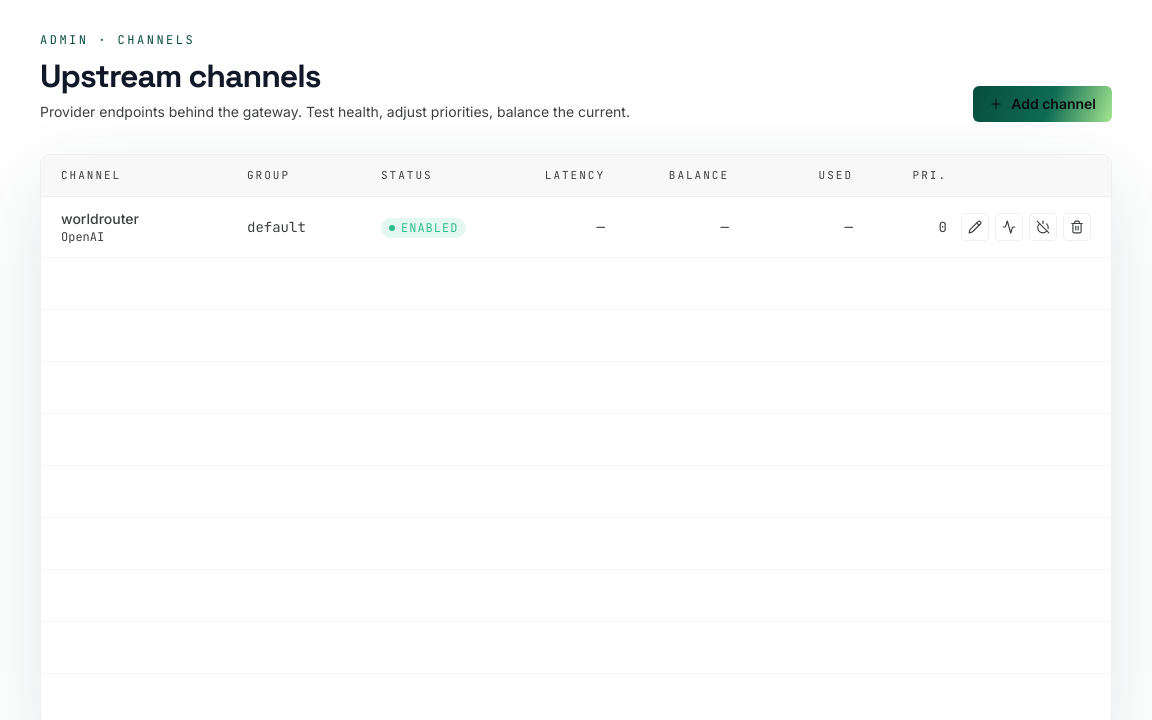
Test: /console/channels mutation errors › surfaces the API error when deleting a channel fails after confirm
Expected: the text "worldrouter" is shown, [61,210,139,226]
Click the button named "Delete": (1077, 226) [1063,212,1091,240]
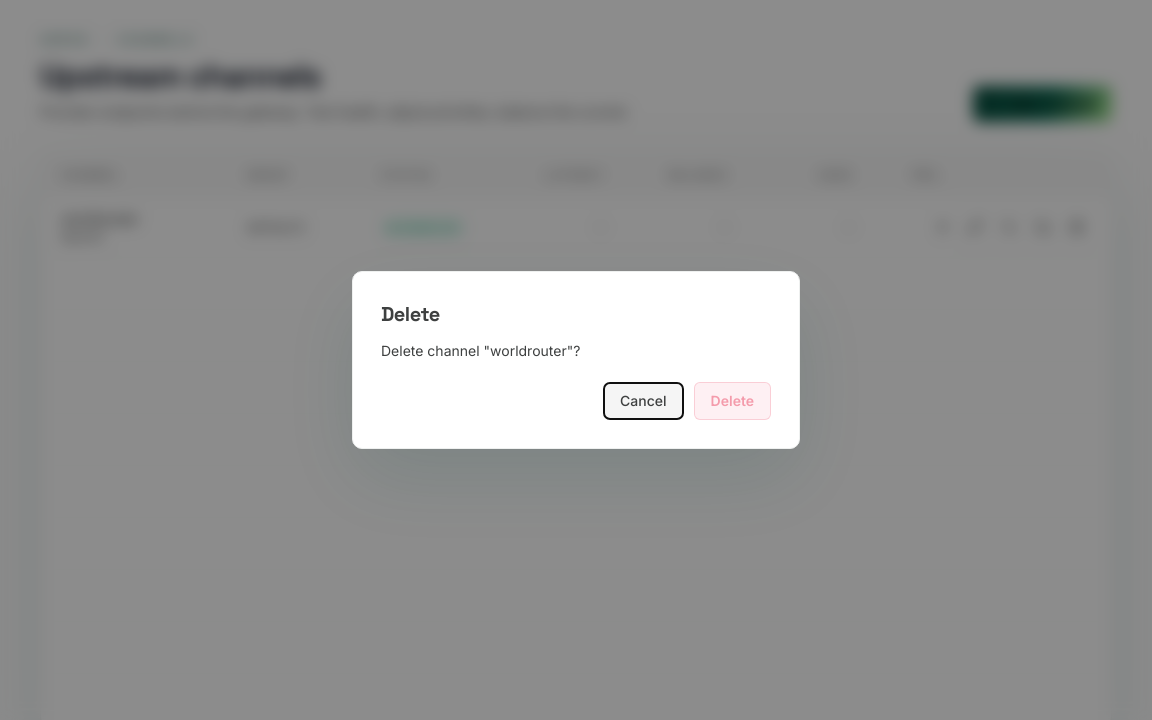
Click the button "Delete": (732, 401) [694,382,771,420]
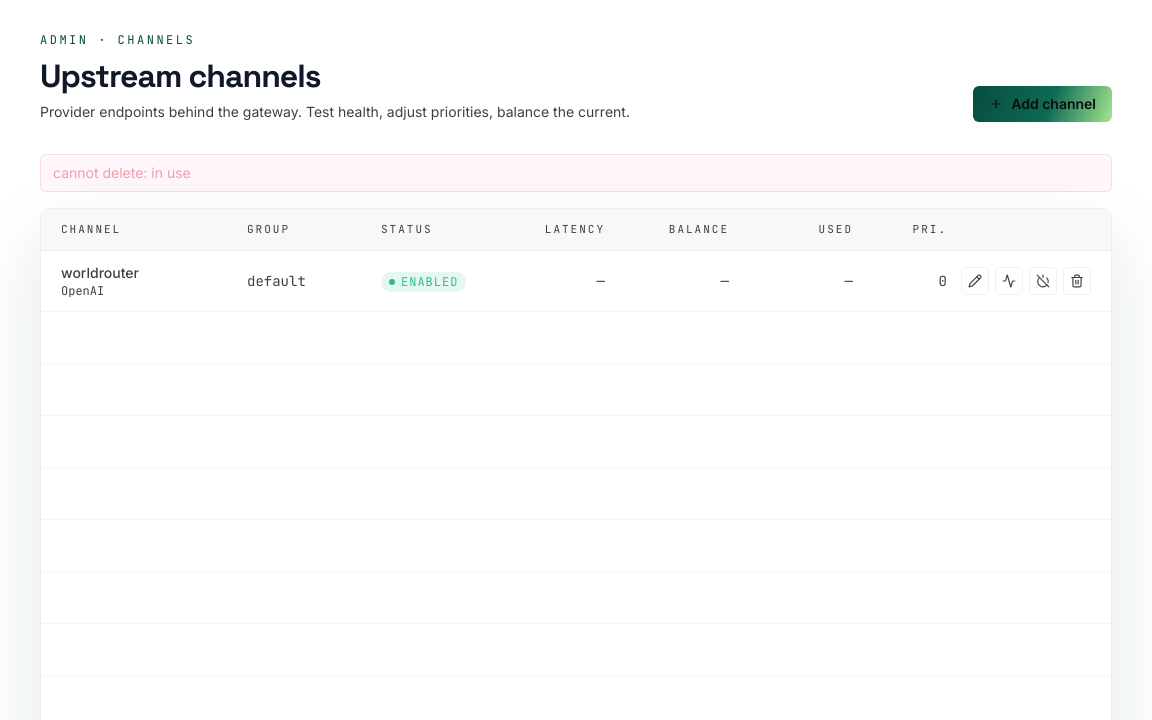
Now the text "cannot delete: in use" is shown, box [40,154,1112,192]
